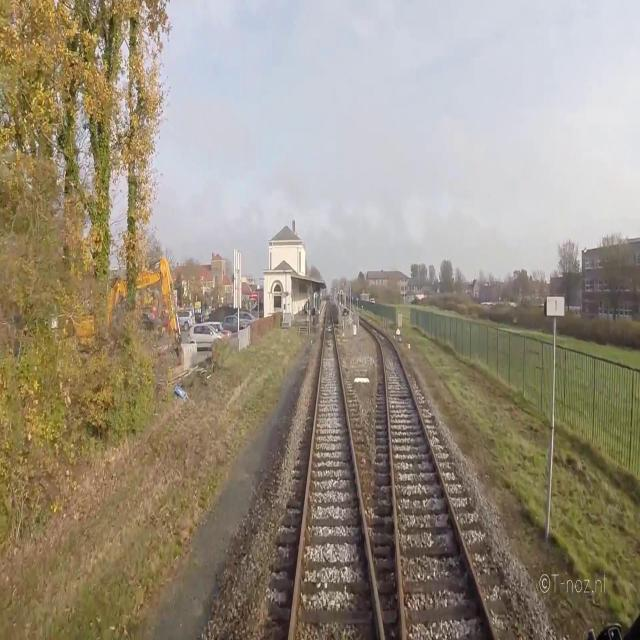rail-track: (359, 317, 493, 639), (292, 303, 379, 639)
